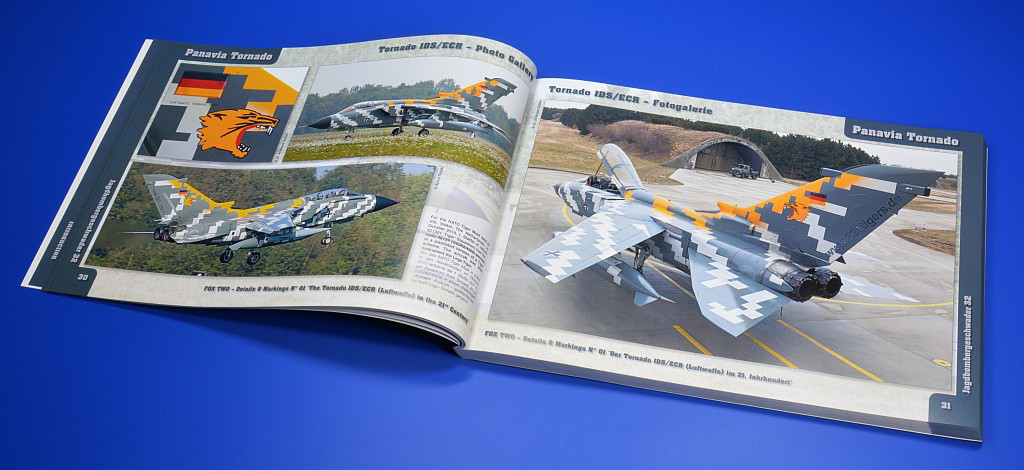Tornado: (519, 143, 946, 338), (117, 173, 408, 265), (297, 76, 518, 145)
